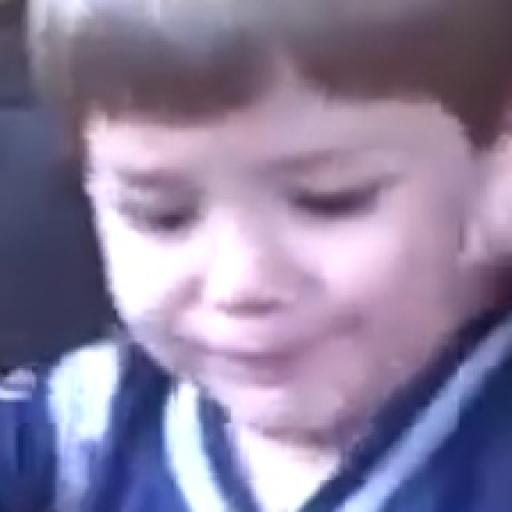Autism: (63, 0, 512, 440)
